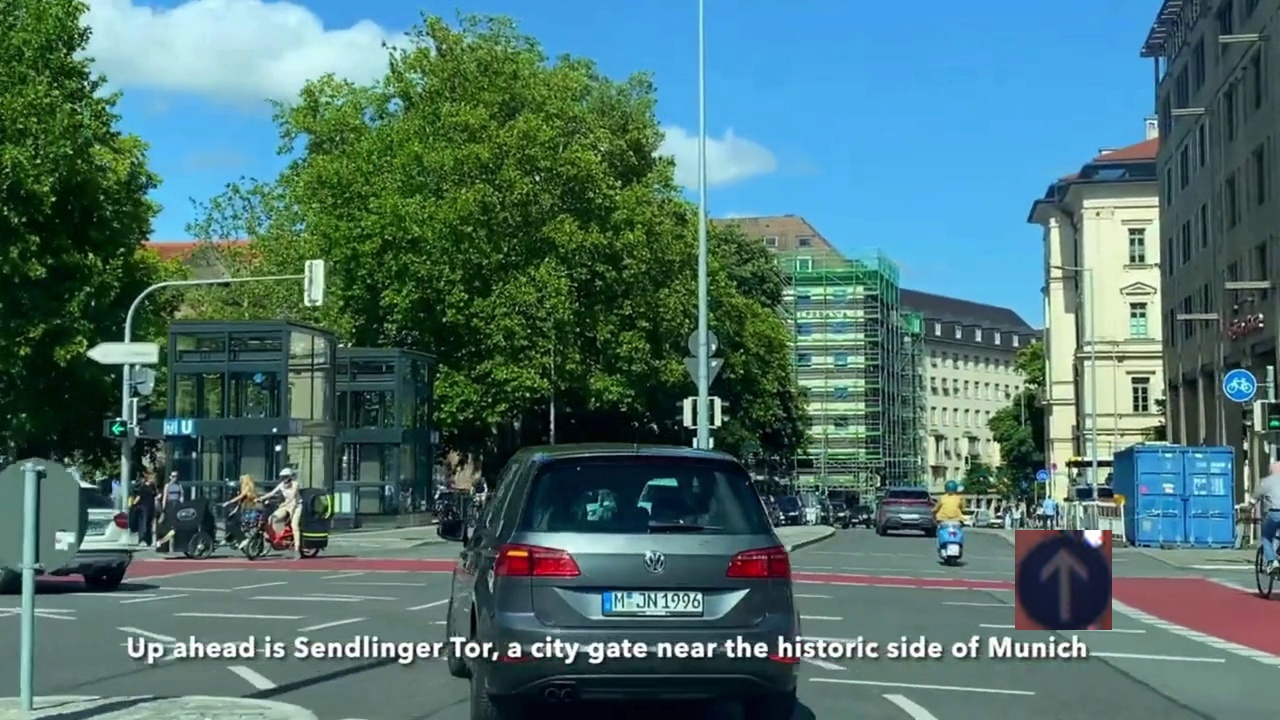Ahead only: (1015, 530, 1112, 630)
